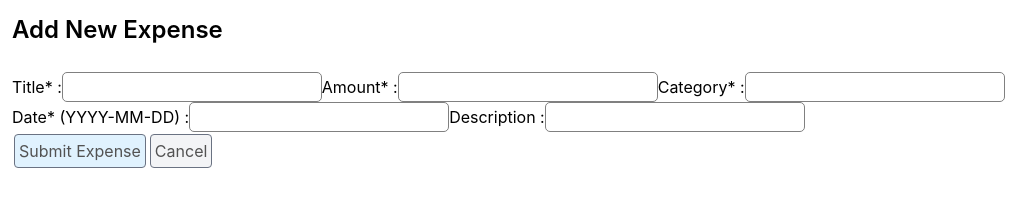
Test: ExpenseForm › validation messages
The width and height of the screenshot is (1022, 215).
Click the button "Submit Expense" at coordinates (80, 151), box [14, 134, 146, 168]
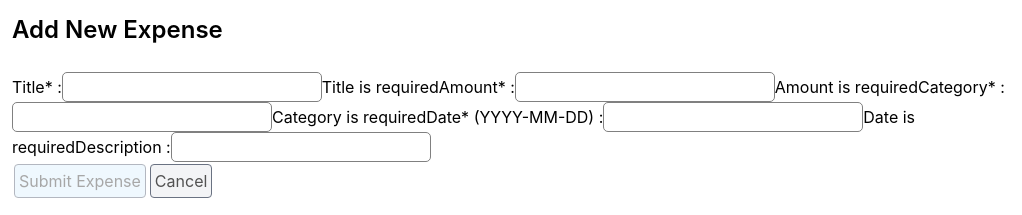
Expected: the text "Title is required" is shown, [322, 77, 439, 97]
Expected: the text "Amount is required" is shown, [775, 77, 918, 97]
Expected: the text "Category is required" is shown, [272, 107, 426, 127]
